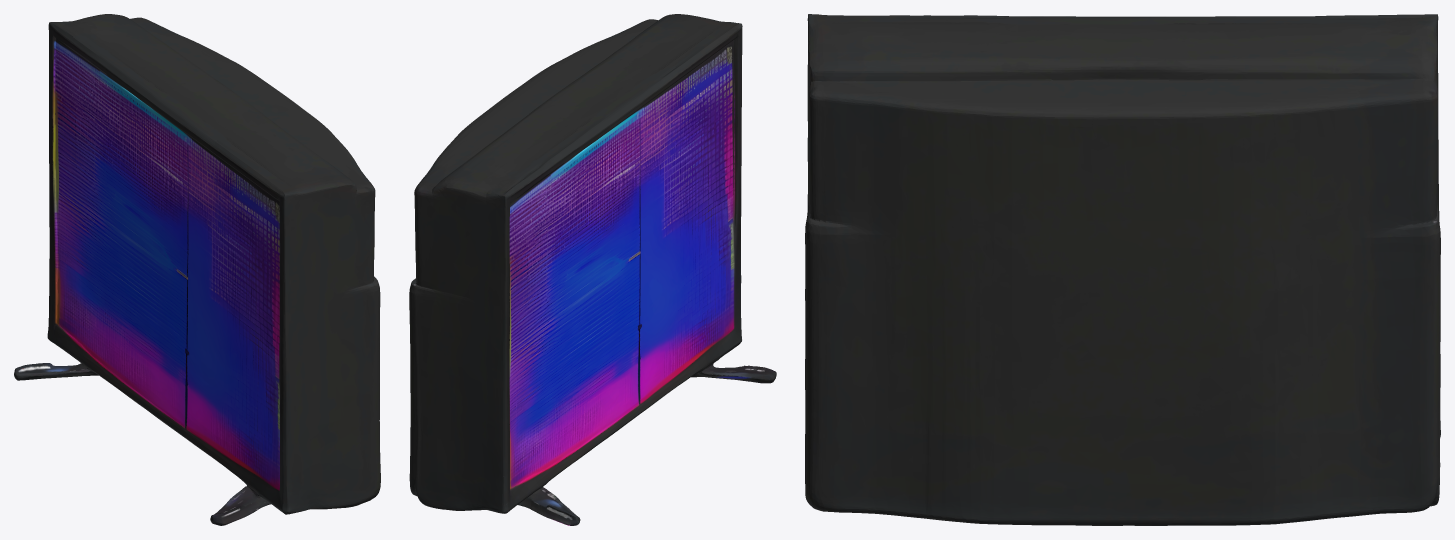
The picture shows the model from 3 angles, left to right: view 1: azimuth 30°, elevation 25°; view 2: azimuth 150°, elevation 25°; view 3: azimuth 270°, elevation 25°; orthographic projection. The views are drawn at different scales.
Visible parts, largest first — view 1: television_26.obj; view 2: television_26.obj; view 3: television_26.obj.
Part boxes in pixels (x1,y1,x2,y2): television_26.obj: (14, 14, 380, 525); television_26.obj: (409, 14, 776, 525); television_26.obj: (805, 14, 1440, 525).
Bounding box in the file's own units: 0.4246 × 0.7722 × 1.
Materials: 1 (1 with a texture image).
